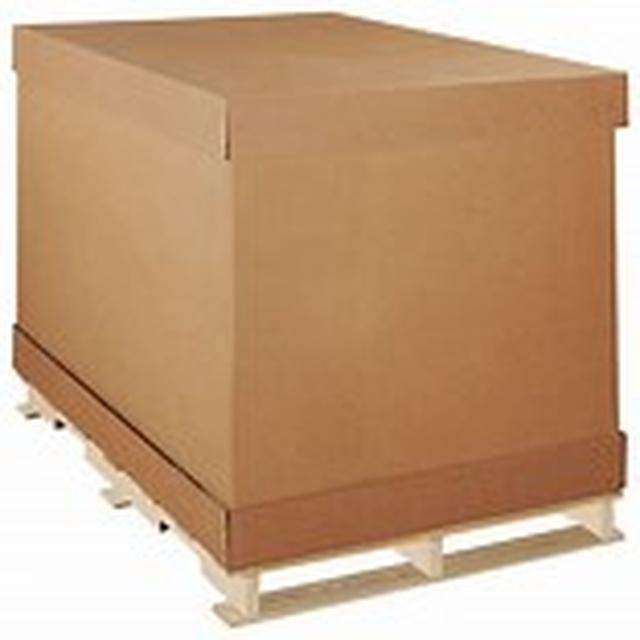box: (9, 12, 615, 580)
